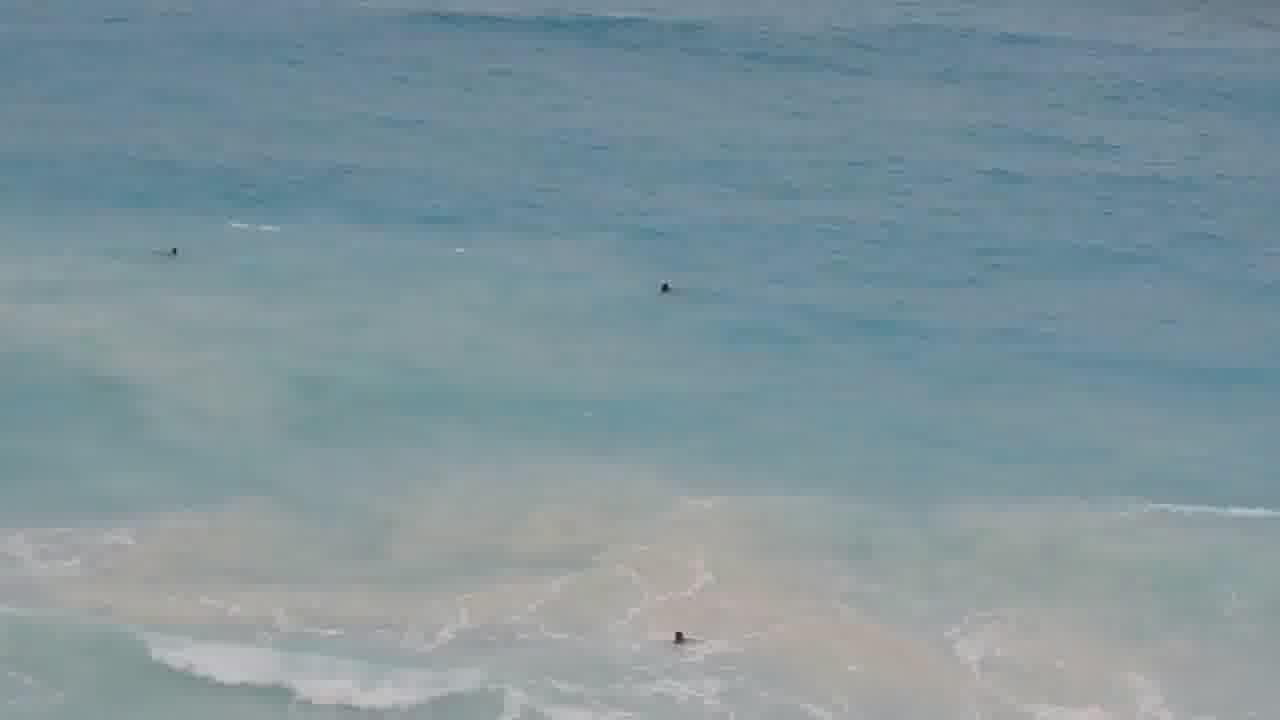human: (657, 612, 715, 672), (647, 264, 694, 317), (154, 232, 199, 282)
